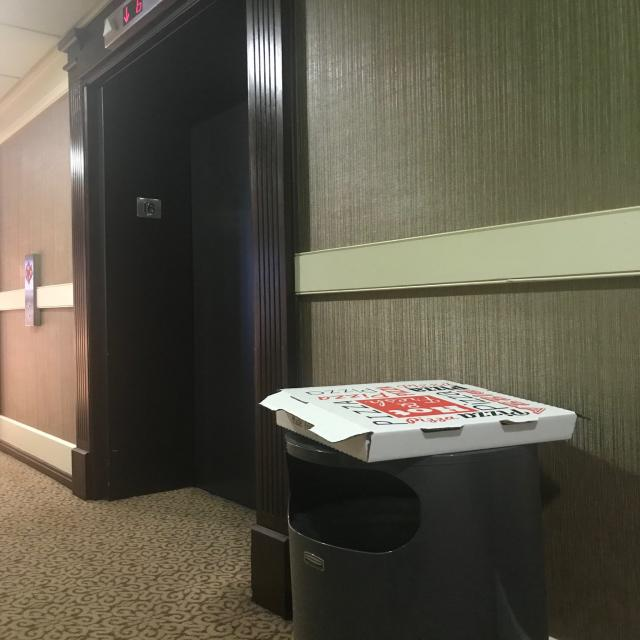Food Carton: (277, 376, 573, 459)
